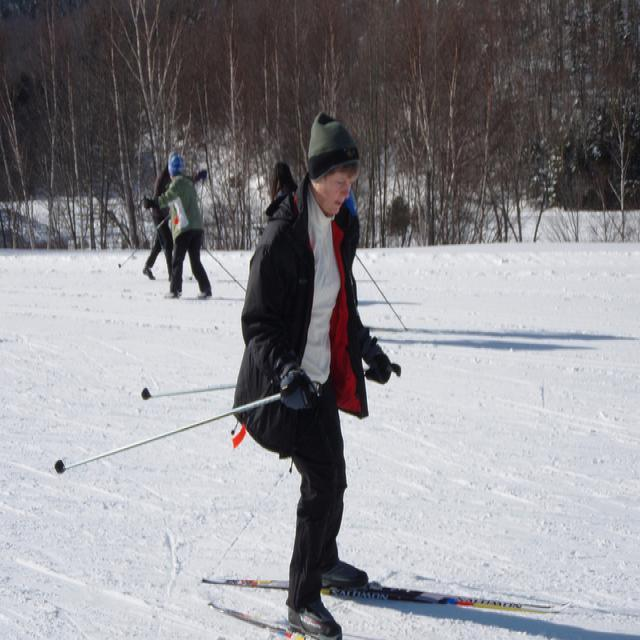non-dog: (229, 111, 396, 638), (143, 149, 217, 301), (135, 164, 207, 282), (262, 159, 302, 224)
